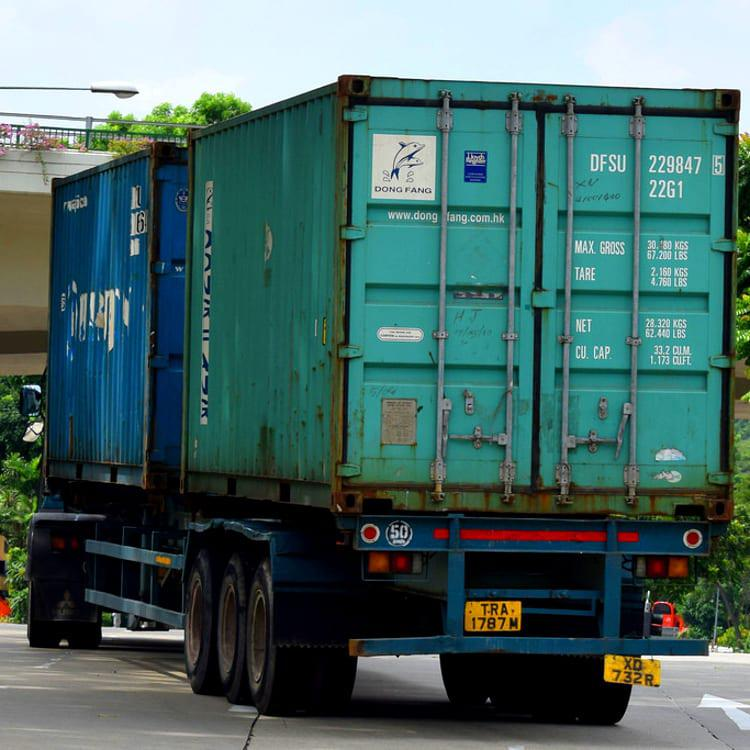ContainerNum: (588, 150, 727, 200)
